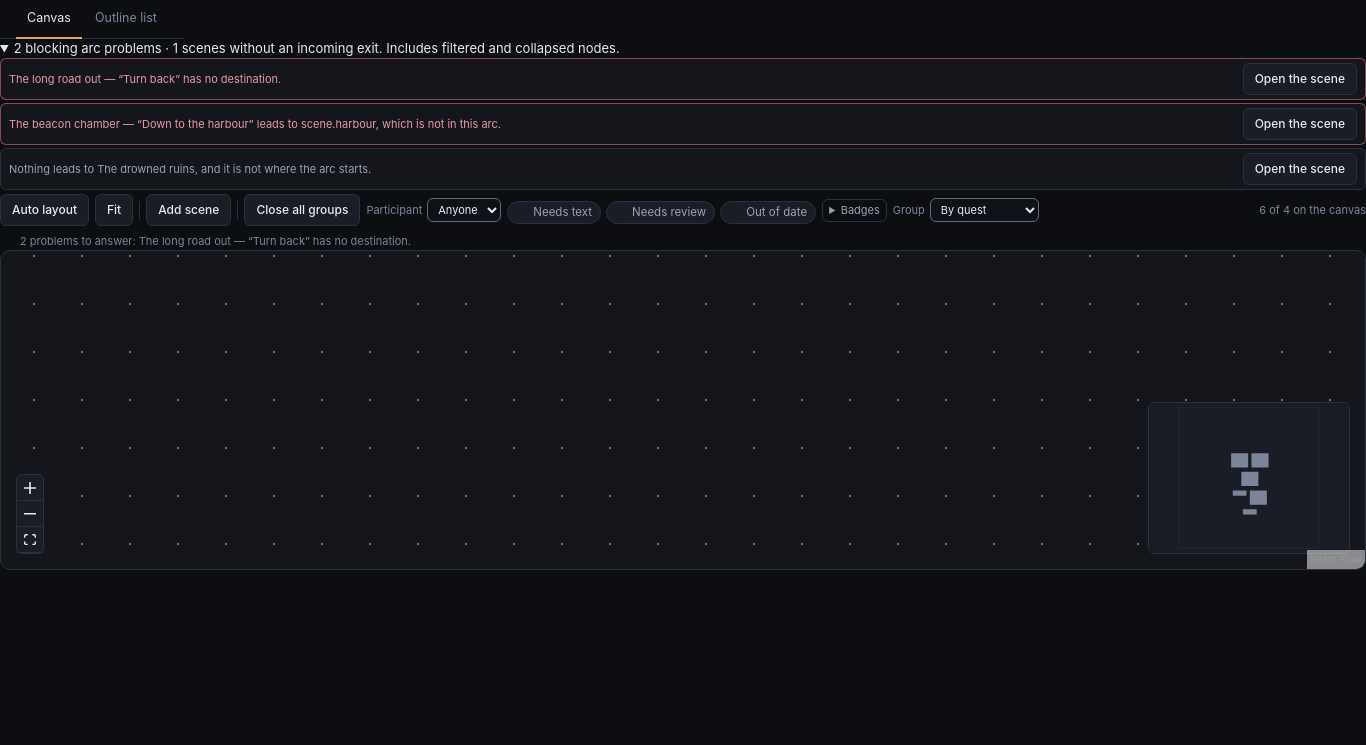
Test: grouping, collapse and filters › regroups the outline by quest state from the same control
Click the button "Outline list" at (126, 19), box [84,0,168,39]
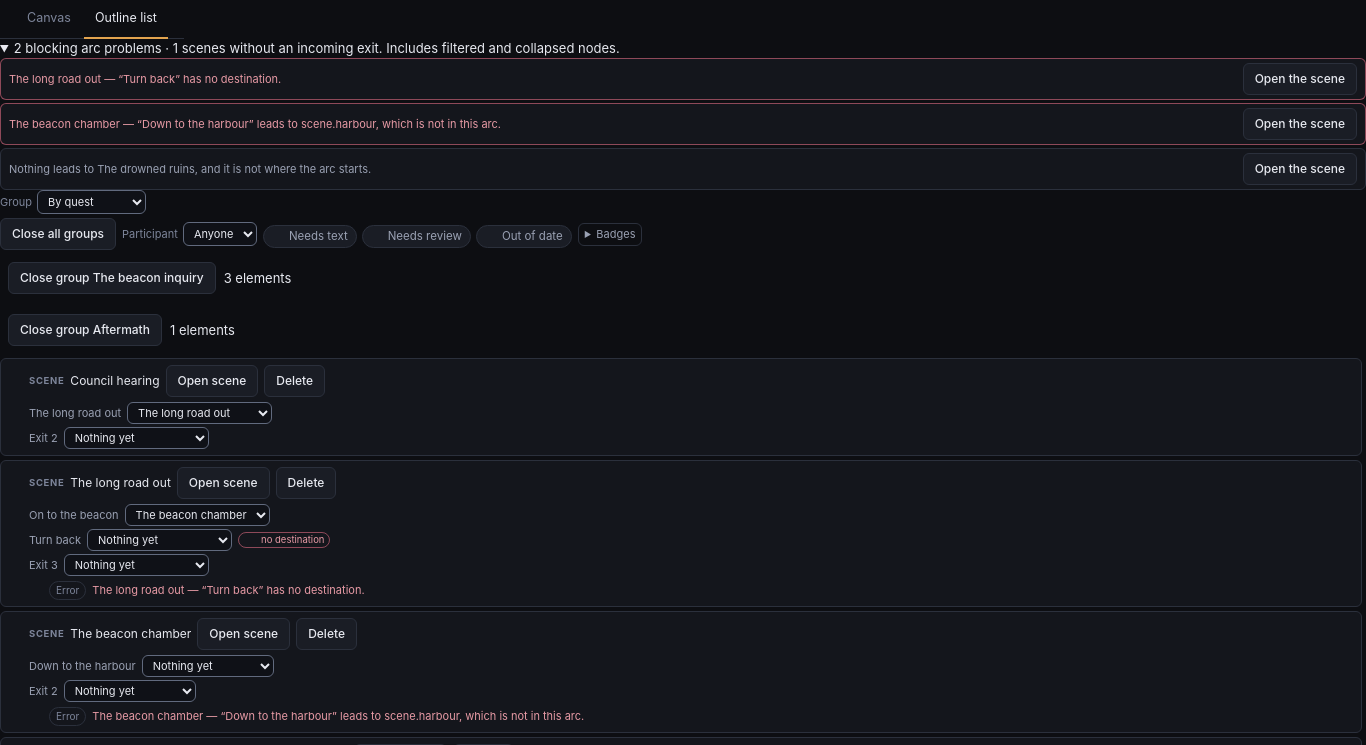
Select "By quest state" in the dropdown labelled "Group" at (92, 202), box [37,190,146,214]
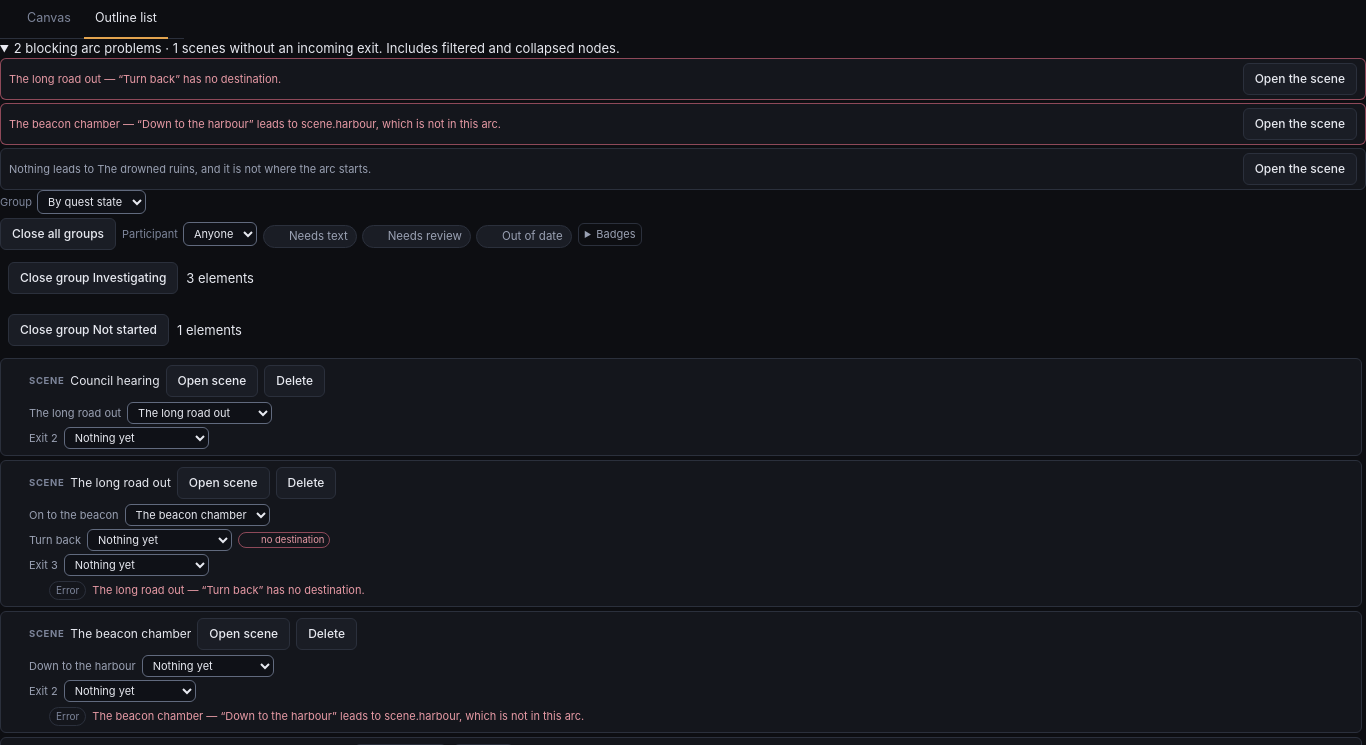
Now the button "Close group Investigating" is shown, box [8,262,178,294]
